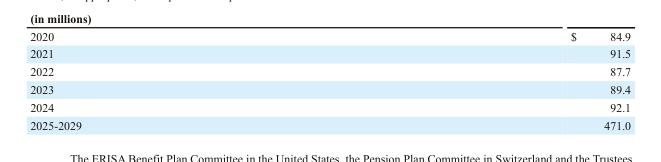table: (29, 28, 630, 131)
table column: (325, 28, 630, 131), (29, 28, 325, 131)
table row: (29, 44, 630, 62), (29, 62, 630, 80), (29, 97, 630, 115), (29, 80, 630, 97), (29, 28, 630, 44), (29, 115, 630, 131)
